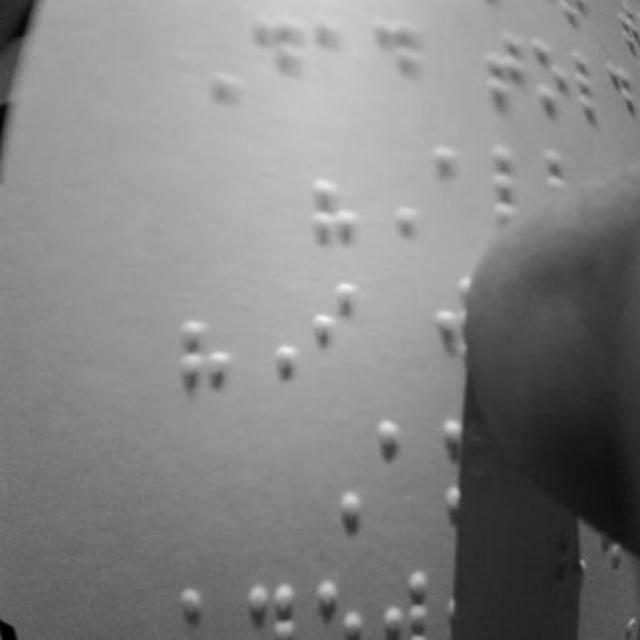braiile: (308, 175, 362, 279), (182, 313, 234, 417), (258, 13, 308, 117), (312, 15, 364, 111), (376, 12, 424, 112)
